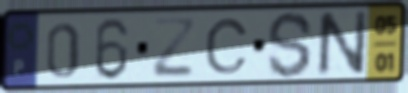0: (44, 20, 85, 80)
6: (93, 14, 131, 84)
C: (203, 16, 251, 77)
N: (315, 8, 370, 80)
S: (265, 9, 315, 81)
Z: (150, 16, 198, 80)
